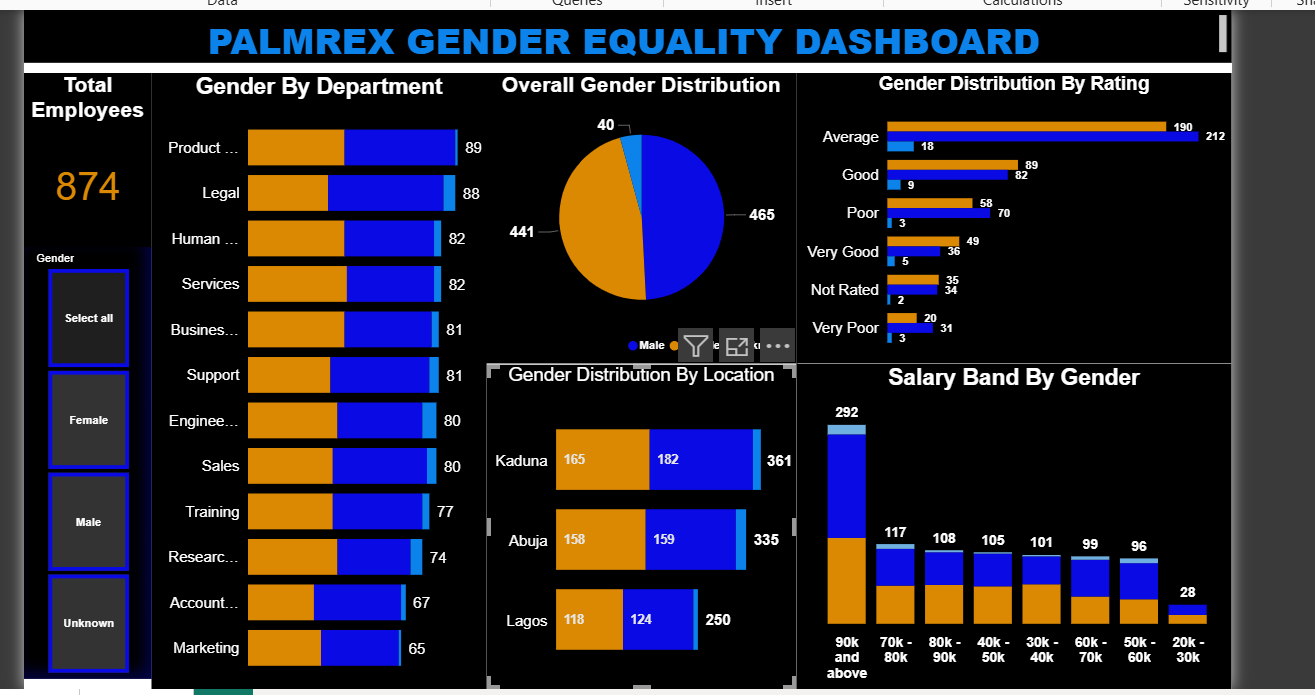

The dashboard page shown, as its layout file describes it:
{"tool":"powerbi","page":{"name":"Page 1","canvas":[1280,720],"ordinal":0},"visuals":[{"type":"pieChart","title":"Overall Gender Distribution","fields":{"Category":["Palmoria Group emp-data (1).Gender"],"Y":["CountNonNull(Palmoria Group emp-data (1).Name)"]},"box":[489.9,67.3,329.4,308],"z":0},{"type":"barChart","title":"Gender Distribution By Location","fields":{"Category":["Palmoria Group emp-data (1).Location"],"Series":["Palmoria Group emp-data (1).Gender"],"Y":["CountNonNull(Palmoria Group emp-data (1).Name)"]},"box":[489.9,375.3,329.4,345.2],"z":1000},{"type":"barChart","title":"Gender By Department","fields":{"Category":["Palmoria Group emp-data (1).Department"],"Series":["Palmoria Group emp-data (1).Gender"],"Y":["CountNonNull(Palmoria Group emp-data (1).Name)"]},"box":[134.6,67.3,355.2,653.2],"z":2000},{"type":"clusteredBarChart","title":"Gender Distribution By Rating","fields":{"Category":["Palmoria Group emp-data (1).Rating"],"Y":["CountNonNull(Palmoria Group emp-data (1).Name)"],"Series":["Palmoria Group emp-data (1).Gender"]},"box":[819.3,67.3,461.2,308],"z":3000},{"type":"columnChart","title":"Salary Band By Gender","fields":{"Category":["Palmoria Group emp-data (1).Salary Band"],"Series":["Palmoria Group emp-data (1).Gender"],"Y":["CountNonNull(Palmoria Group emp-data (1).Name)"]},"box":[819.2,375.4,461.3,345.2],"z":4000},{"type":"slicer","fields":{"Values":["Palmoria Group emp-data (1).Gender"]},"box":[0,251.3,135.2,458.1],"z":5000},{"type":"card","title":"Total Employees","fields":{"Values":["Count(Palmoria Group emp-data (1).Name)"]},"box":[0,66.8,135.2,184.5],"z":6000},{"type":"textbox","box":[0,0,1280.4,55.7],"z":7000}]}

Visuals, with their boxes in screenshot pixels (x1, y1, x2, y2):
"Overall Gender Distribution" pieChart: select_region(583, 71, 897, 364)
"Gender Distribution By Location" barChart: select_region(583, 364, 897, 693)
"Gender By Department" barChart: select_region(245, 71, 583, 693)
"Gender Distribution By Rating" clusteredBarChart: select_region(897, 71, 1314, 364)
"Salary Band By Gender" columnChart: select_region(896, 364, 1314, 693)
slicer - Palmoria Group emp-data (1).Gender: select_region(116, 246, 245, 682)
"Total Employees" card: select_region(116, 70, 245, 246)
textbox: select_region(116, 7, 1314, 60)
